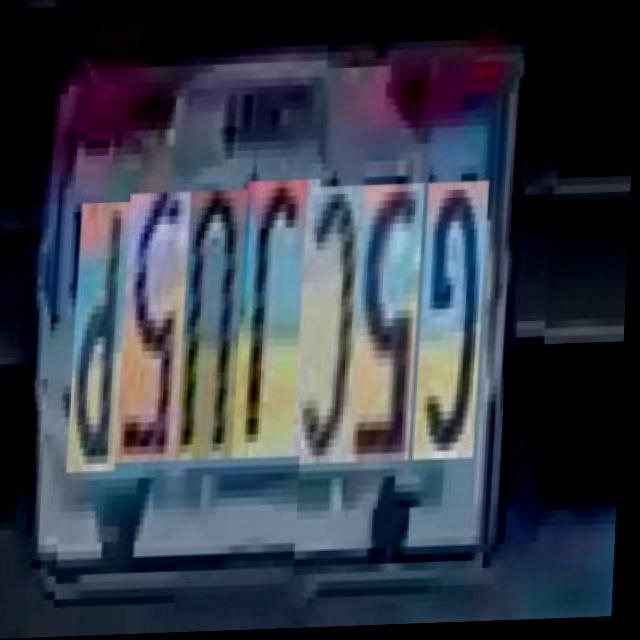5: (352, 186, 425, 466), (118, 201, 191, 473)
c: (295, 188, 365, 468)
g: (416, 185, 489, 464)
j: (234, 190, 308, 470)
p: (70, 211, 131, 482)
u: (179, 200, 246, 471)
